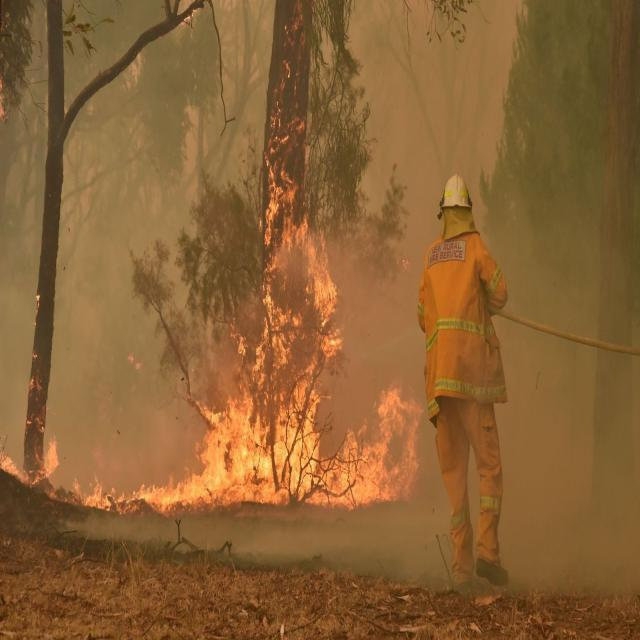Fire: (243, 98, 345, 359), (200, 353, 318, 506), (38, 419, 200, 522), (319, 358, 423, 509)
Smoke: (59, 135, 201, 413), (521, 372, 640, 599), (522, 169, 639, 371), (356, 2, 514, 148), (516, 2, 638, 162), (98, 0, 243, 131)
